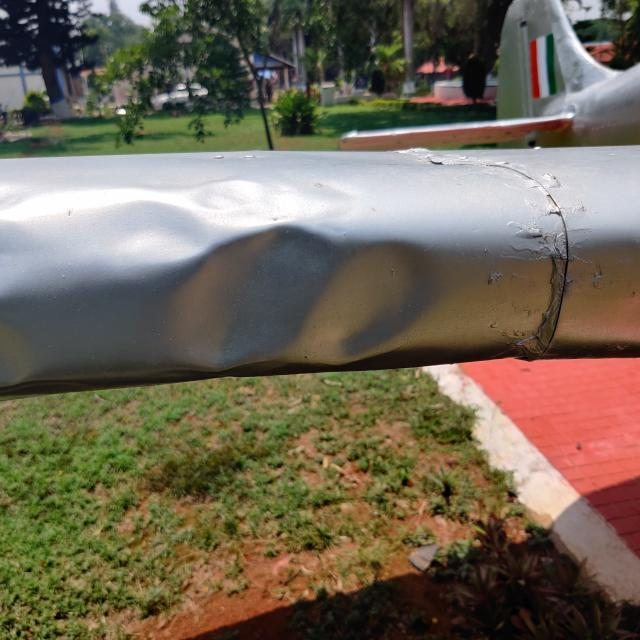dent: (68, 151, 467, 397), (0, 282, 73, 403)
